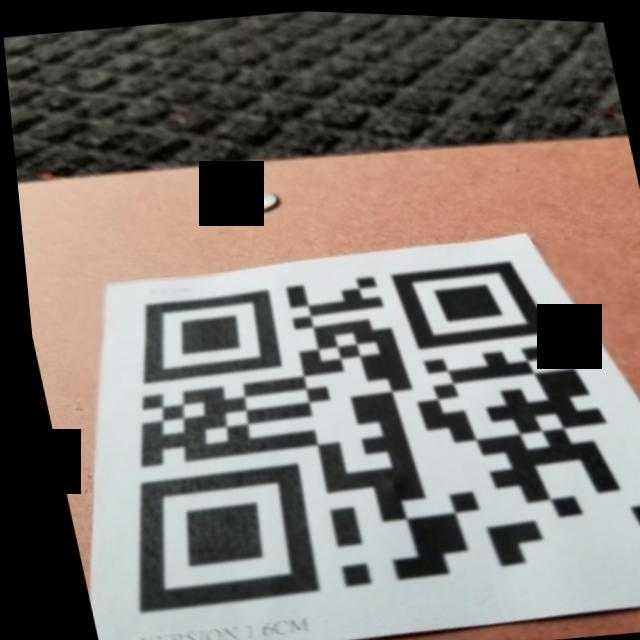QR_CODE: (43, 216, 640, 640)
